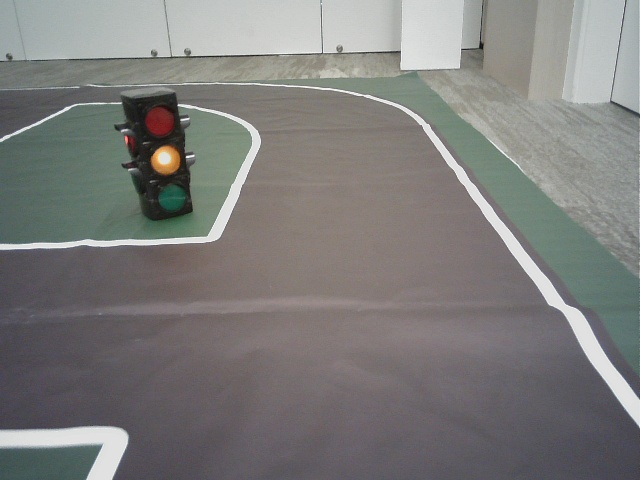yellow: (133, 97, 190, 213)
